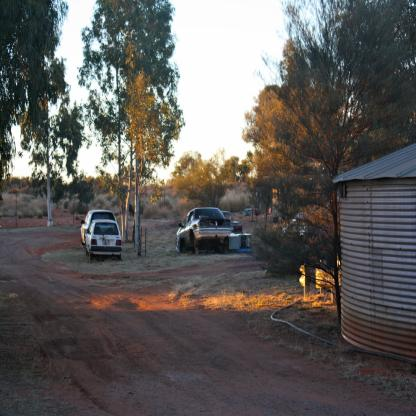Car: (175, 205, 233, 248), (79, 210, 116, 247), (279, 212, 315, 237), (220, 207, 243, 234)
